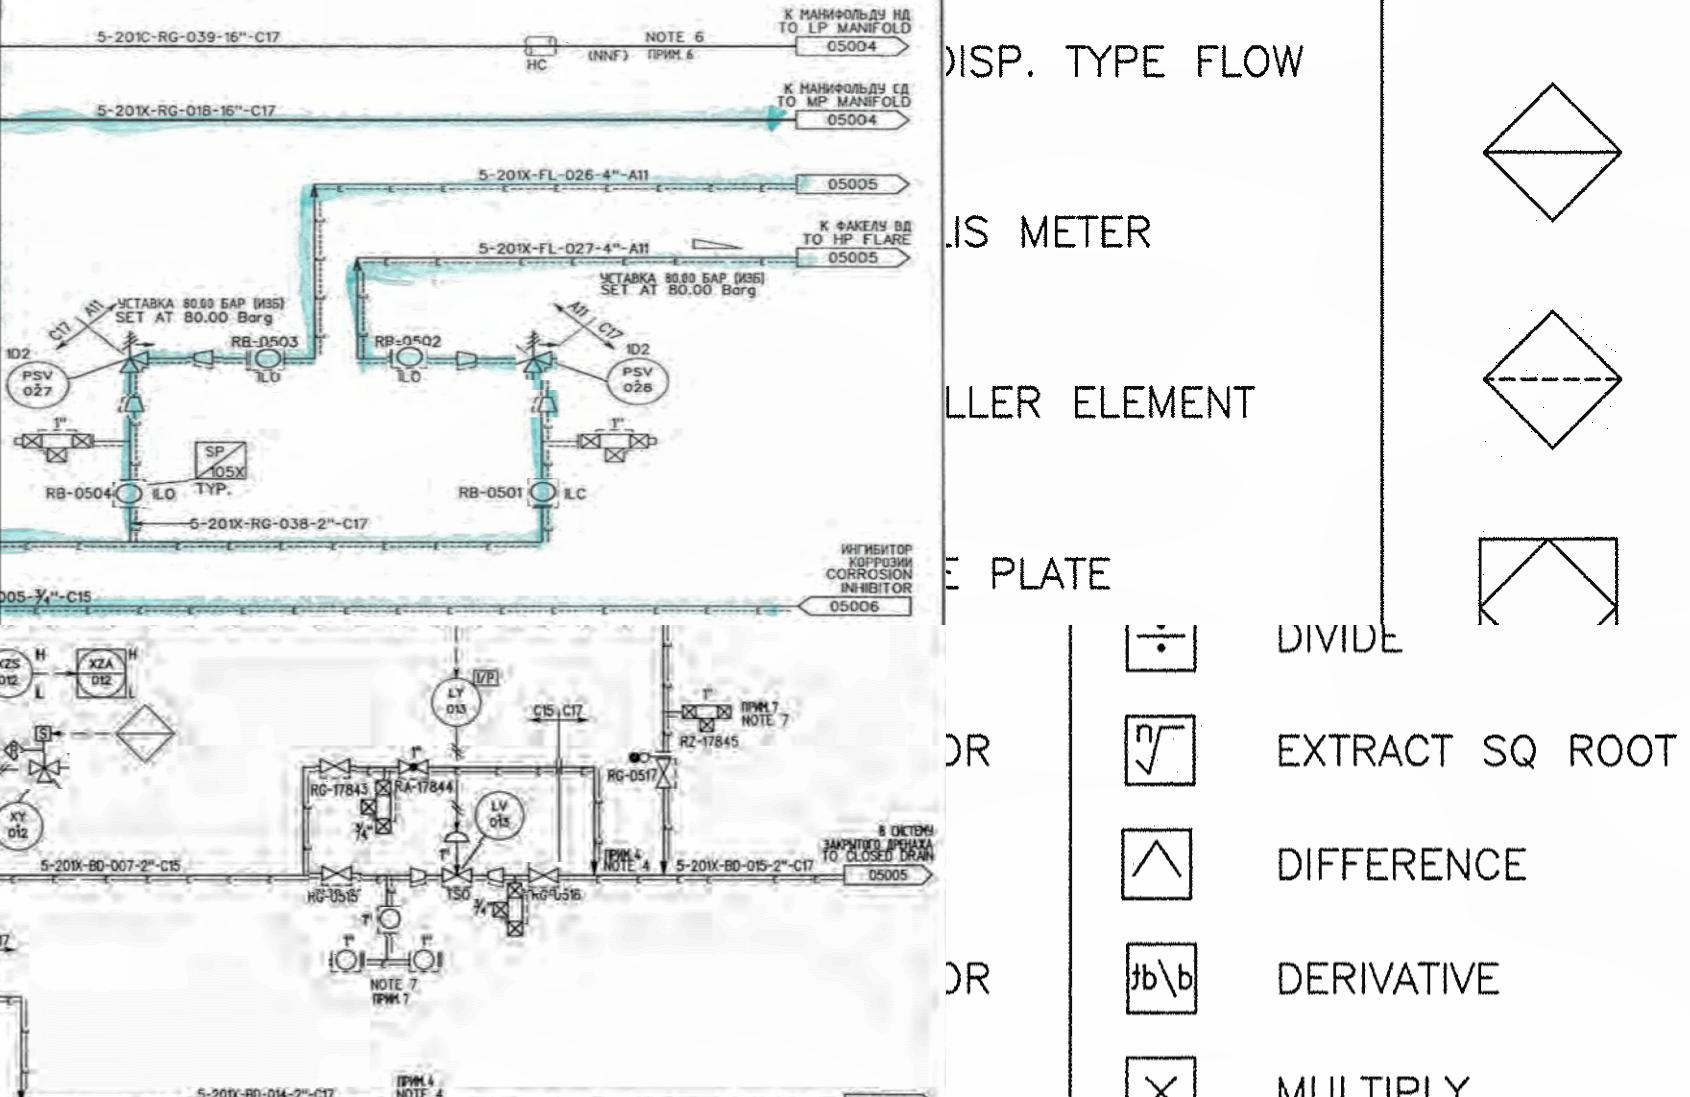2 WAY VALVE: (21, 424, 97, 465), (574, 426, 652, 464), (360, 778, 404, 837), (677, 697, 737, 736), (494, 880, 533, 939)
3 WAY GENERAL VALVE: (18, 753, 69, 790)
ANGLE RELIEF VALVE: (516, 325, 559, 380), (116, 326, 158, 380)
CONCENTRIC REDUCER: (186, 347, 223, 372), (528, 390, 559, 417), (405, 861, 432, 889), (453, 347, 484, 372), (116, 394, 147, 419), (489, 863, 510, 888)
DCS ACCESSIBLE: (70, 639, 135, 705)
DERIVATIVE: (1118, 932, 1206, 1018)
DIAPHRAGM ACTUATED VALVE: (435, 829, 479, 886)
DIFFERENCE: (1114, 822, 1203, 907)
DIVIDE: (1117, 625, 1203, 672)
DUPLEX RECEPTACLE: (507, 31, 568, 59)
EXTRACT SQ ROOT: (1116, 708, 1206, 790)
FIELD INSTRUMENT: (422, 673, 493, 728), (2, 360, 73, 412), (604, 356, 674, 408), (471, 790, 532, 845), (0, 793, 47, 854), (0, 646, 38, 701), (404, 946, 447, 979), (329, 946, 367, 978), (388, 345, 429, 373), (372, 907, 404, 938), (250, 346, 285, 373), (112, 481, 148, 507), (527, 479, 557, 508)
GATE VALVE: (648, 749, 681, 798), (310, 863, 363, 894), (524, 863, 565, 894), (315, 753, 356, 783)
GLOBE VALVE: (390, 753, 439, 776), (443, 836, 443, 837)
HARDWIRED INTERLOCK FIELD: (0, 737, 23, 762)
HARDWIRED INTERLOCK PRIMARY.: (1479, 78, 1626, 225), (118, 701, 180, 766)
IP CONVERTER: (466, 665, 503, 691)
MULTIPLY: (1118, 1043, 1203, 1097)
NON-ACCESSABLE HARDWIRED INTERLOCK: (1474, 300, 1631, 458)
PLC FIELD MOUNTED: (1476, 529, 1627, 625)
SPECIAL PIPING ITEM: (187, 436, 254, 486)
SPECTACLE BLIND CLOSED: (620, 746, 677, 765)
SPEED FLOW METER: (30, 719, 54, 746)
